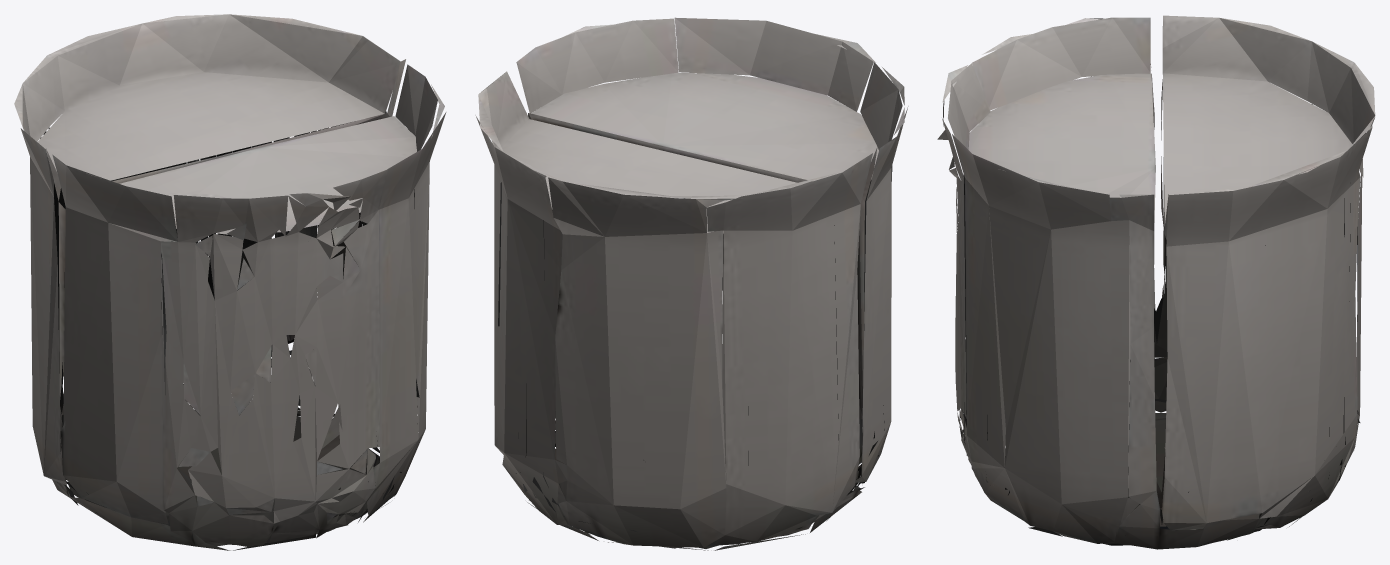
The model's file is side-table-drum.glb.
3 renders of one model, left to right at view 1: azimuth 30°, elevation 25°; view 2: azimuth 150°, elevation 25°; view 3: azimuth 270°, elevation 25°, orthographic.
Visible parts, largest first — view 1: geometry_0; view 2: geometry_0; view 3: geometry_0.
Part boxes in pixels (x1,y1,x2,y2): geometry_0: (14,14,446,550); geometry_0: (475,17,908,550); geometry_0: (937,15,1375,549).
Size of the model in its own units: 0.9701 by 0.9494 by 0.9979.
Materials: 1 (1 with a texture image).
